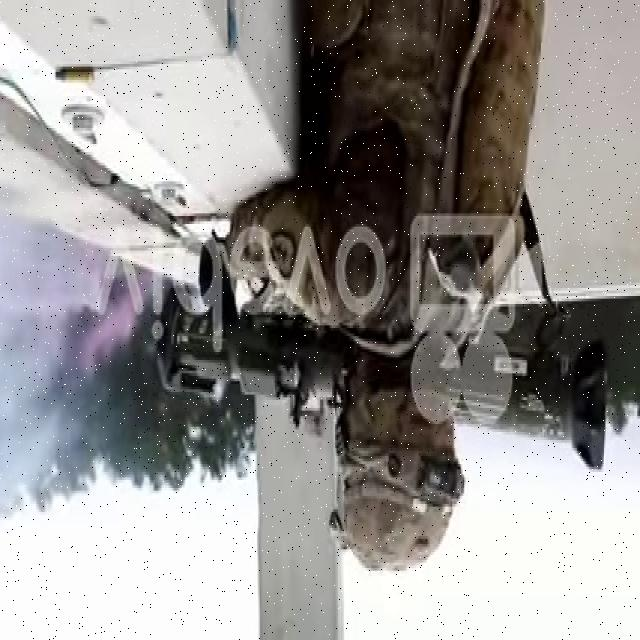bazooka: (153, 282, 619, 476)
